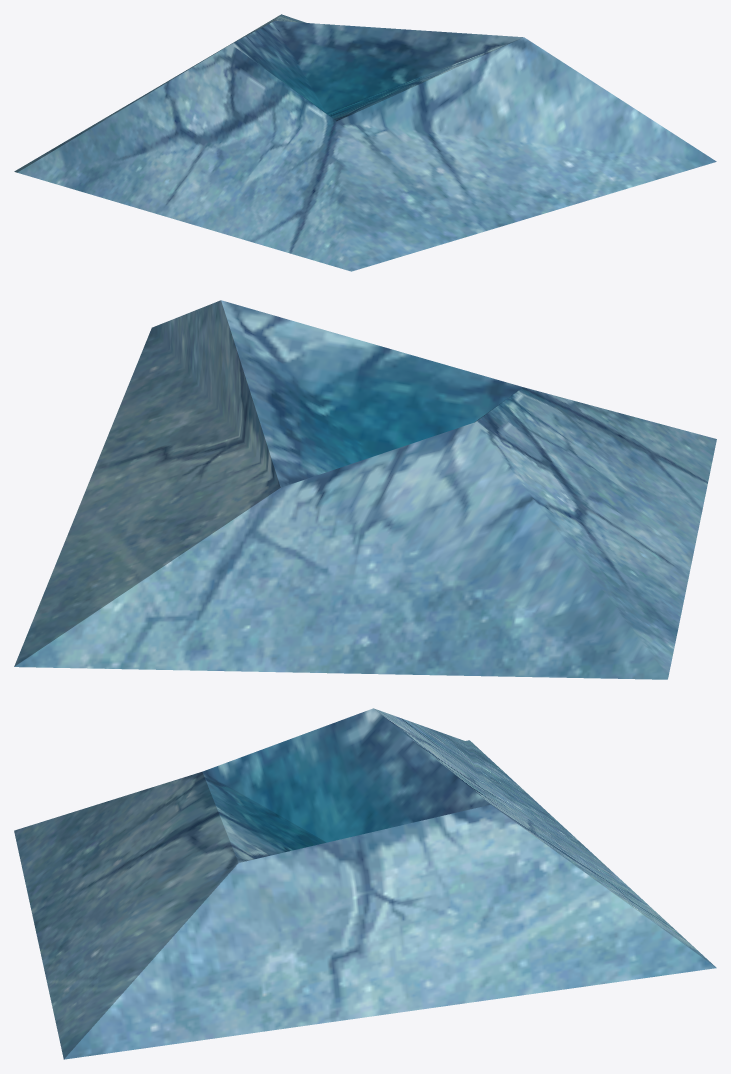
Rendered from environment_stone_xuediliekeng_001_a.FBX.
3 renders of one model, top to bottom at view 1: azimuth 30°, elevation 25°; view 2: azimuth 150°, elevation 25°; view 3: azimuth 270°, elevation 25°, orthographic. The views are drawn at different scales.
Parts seen in each view (by area): view 1: environment_stone_xuediliekeng_001_a; view 2: environment_stone_xuediliekeng_001_a; view 3: environment_stone_xuediliekeng_001_a.
Boxes of the visible parts, <box> form: environment_stone_xuediliekeng_001_a: <box>14,14,716,271</box>; environment_stone_xuediliekeng_001_a: <box>14,300,716,679</box>; environment_stone_xuediliekeng_001_a: <box>14,708,716,1059</box>.
Bounding box in the file's own units: 152 × 32.36 × 141.
